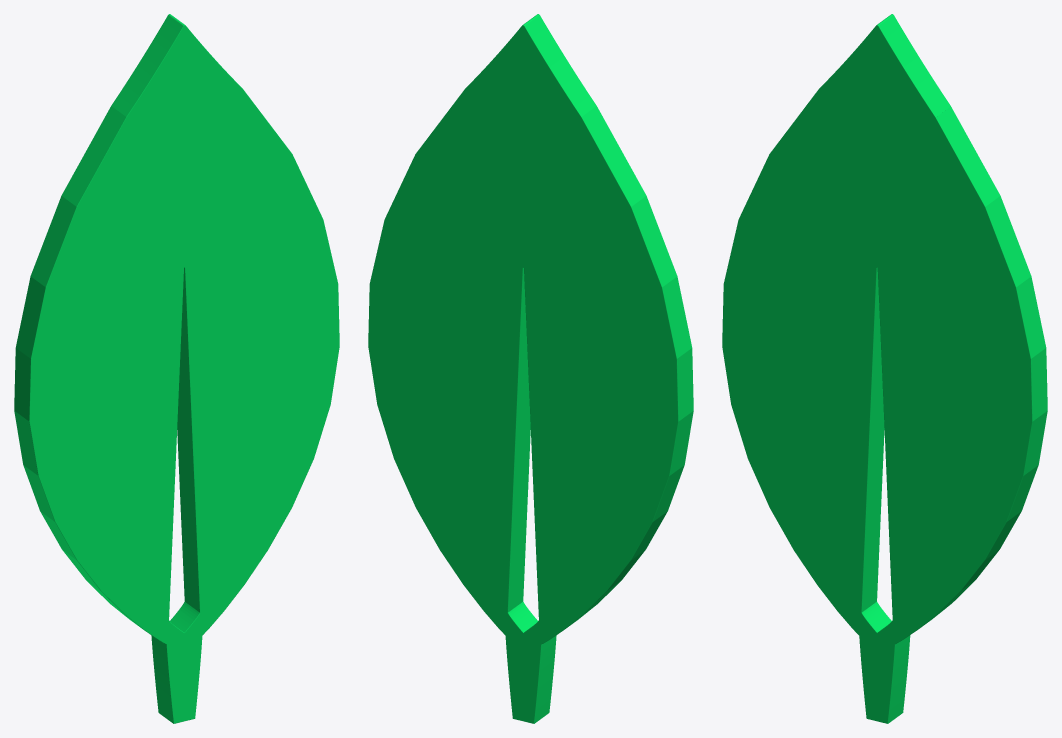
File: mongodb-icon.gltf
3 views of the same model, side by side, from view 1: azimuth 30°, elevation 25°; view 2: azimuth 150°, elevation 25°; view 3: azimuth 330°, elevation 25° (orthographic).
Size of the model in its own units: 5.98 by 12.82 by 0.515.
